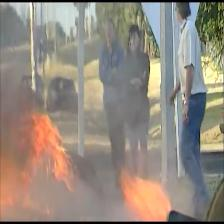fire: (0, 114, 76, 220), (120, 169, 172, 221)
